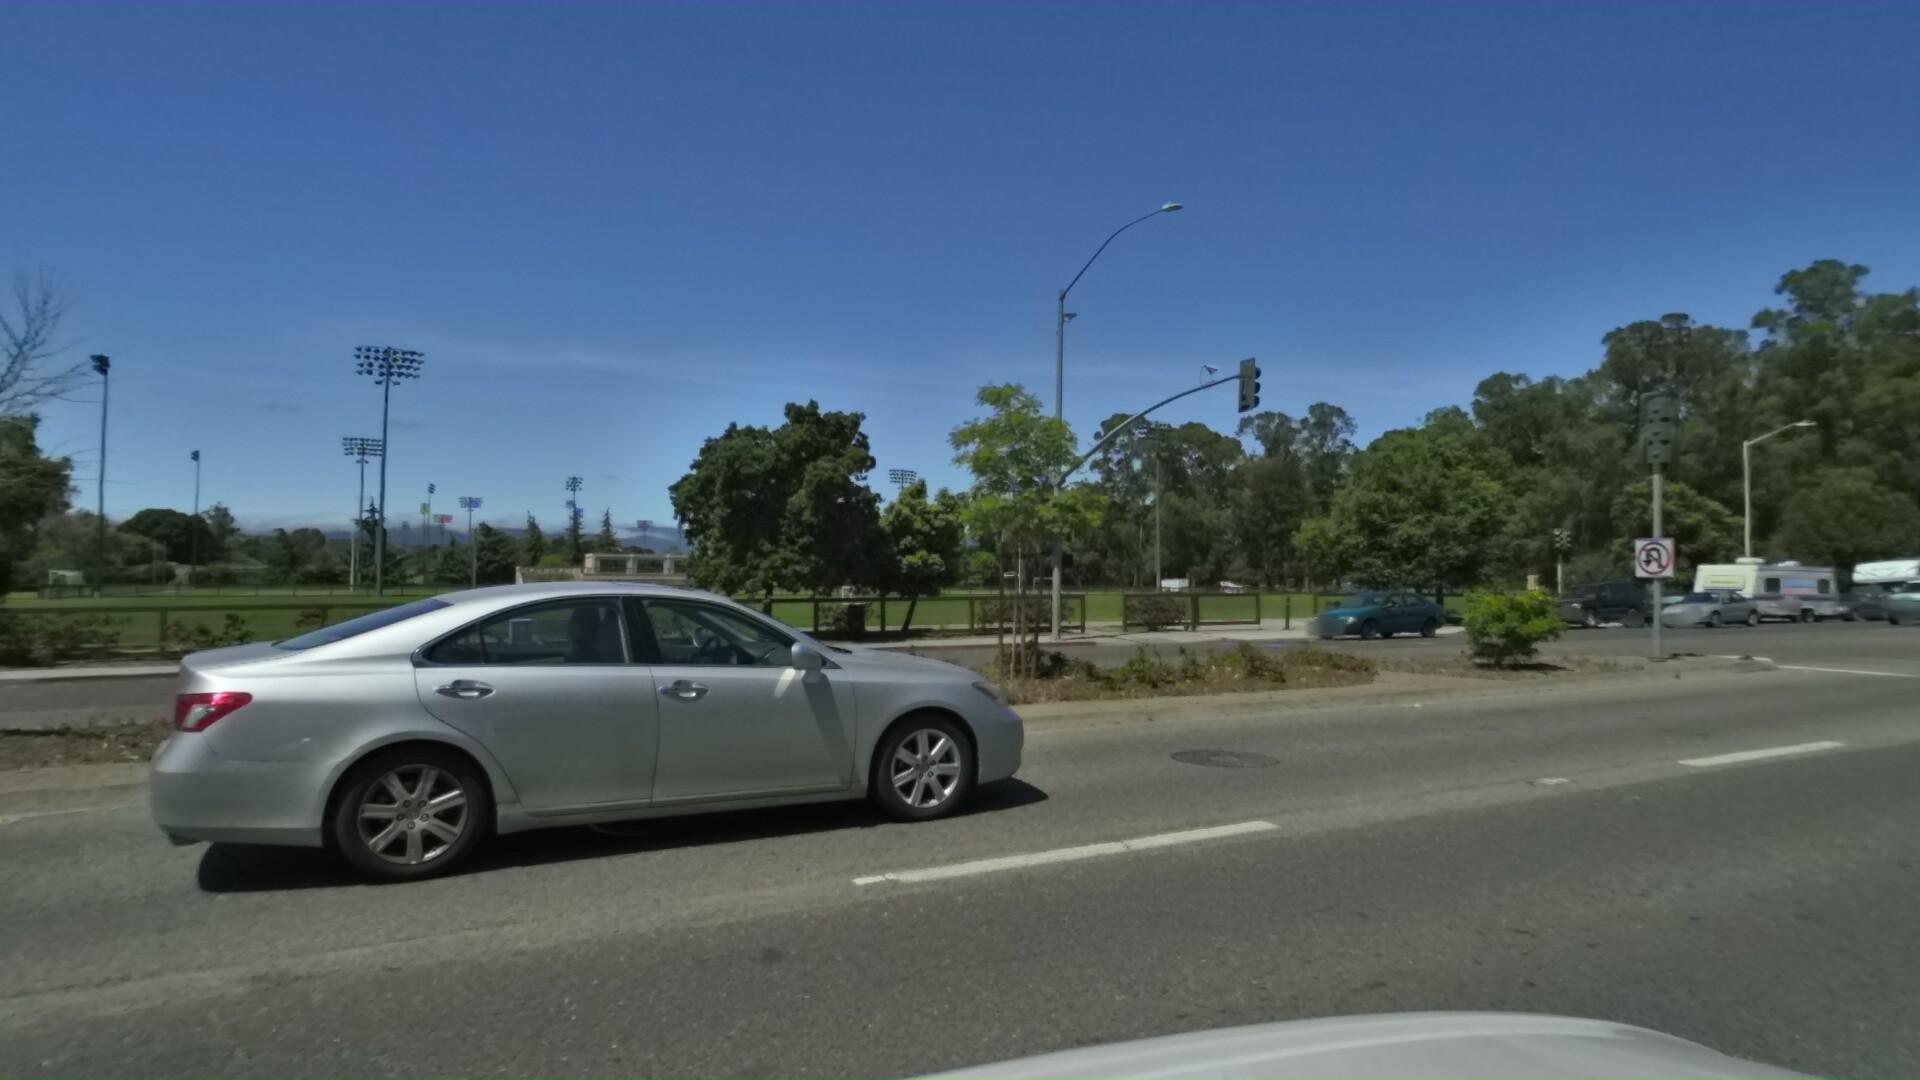car: (58, 555, 1067, 928), (1259, 576, 1424, 640), (1509, 574, 1640, 626), (1623, 588, 1745, 630), (1847, 566, 1920, 633), (1788, 582, 1874, 622)
other_vehicle: (1658, 547, 1834, 622), (1818, 549, 1920, 621)
